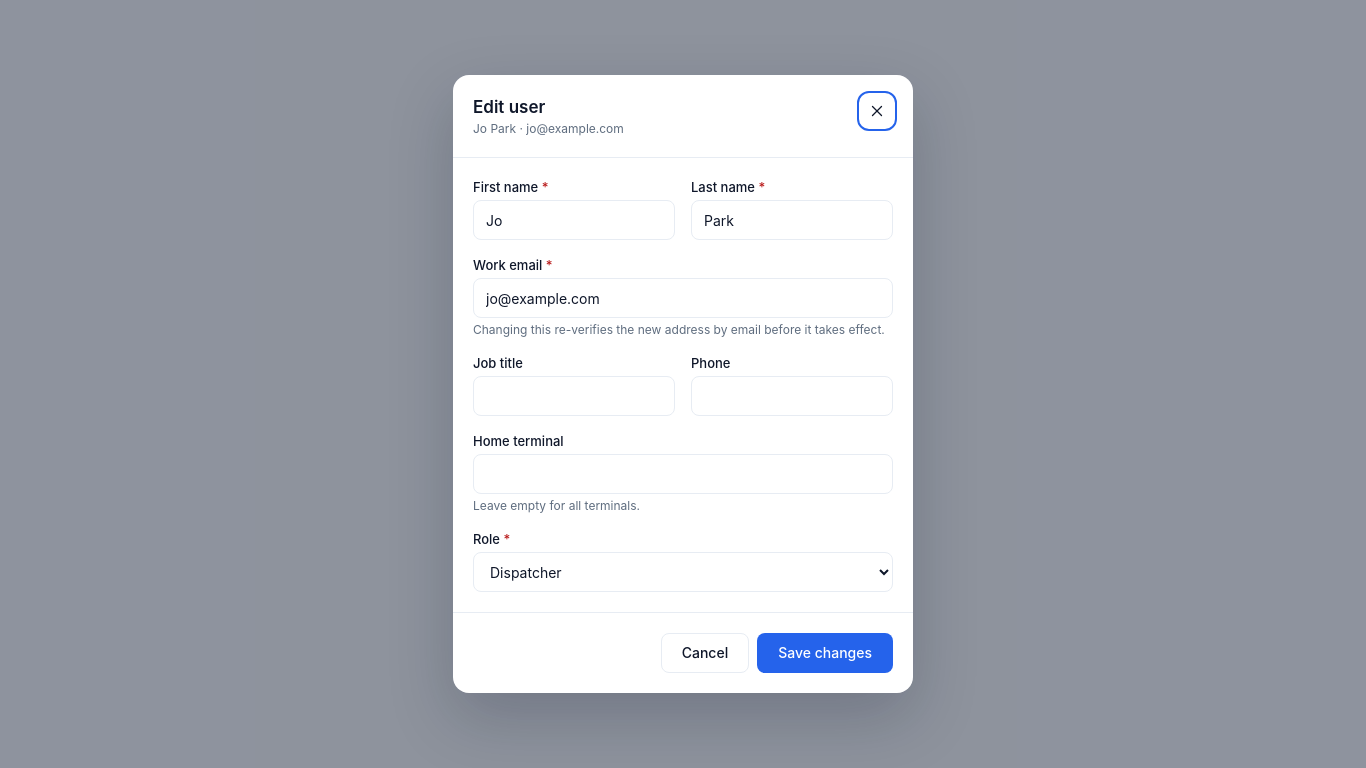
Test case: EditUserModal › maps every profile issue onto its field and labels an unplaced one
The width and height of the screenshot is (1366, 768).
Replace the text in the field labelled "First name *" with "Joanna": coordinates (574, 220) left=473, top=200, right=675, bottom=240
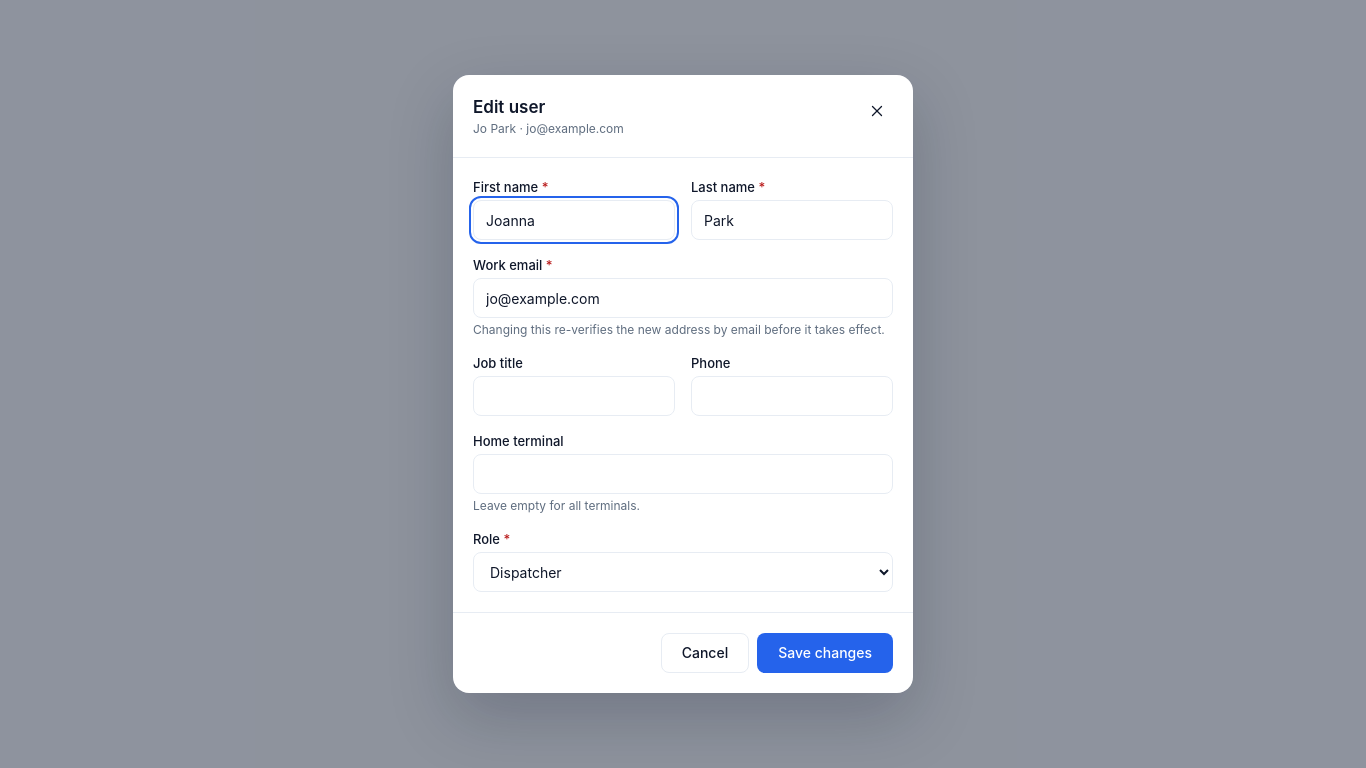
Click the button "Save changes": coordinates (825, 653) left=757, top=633, right=893, bottom=673
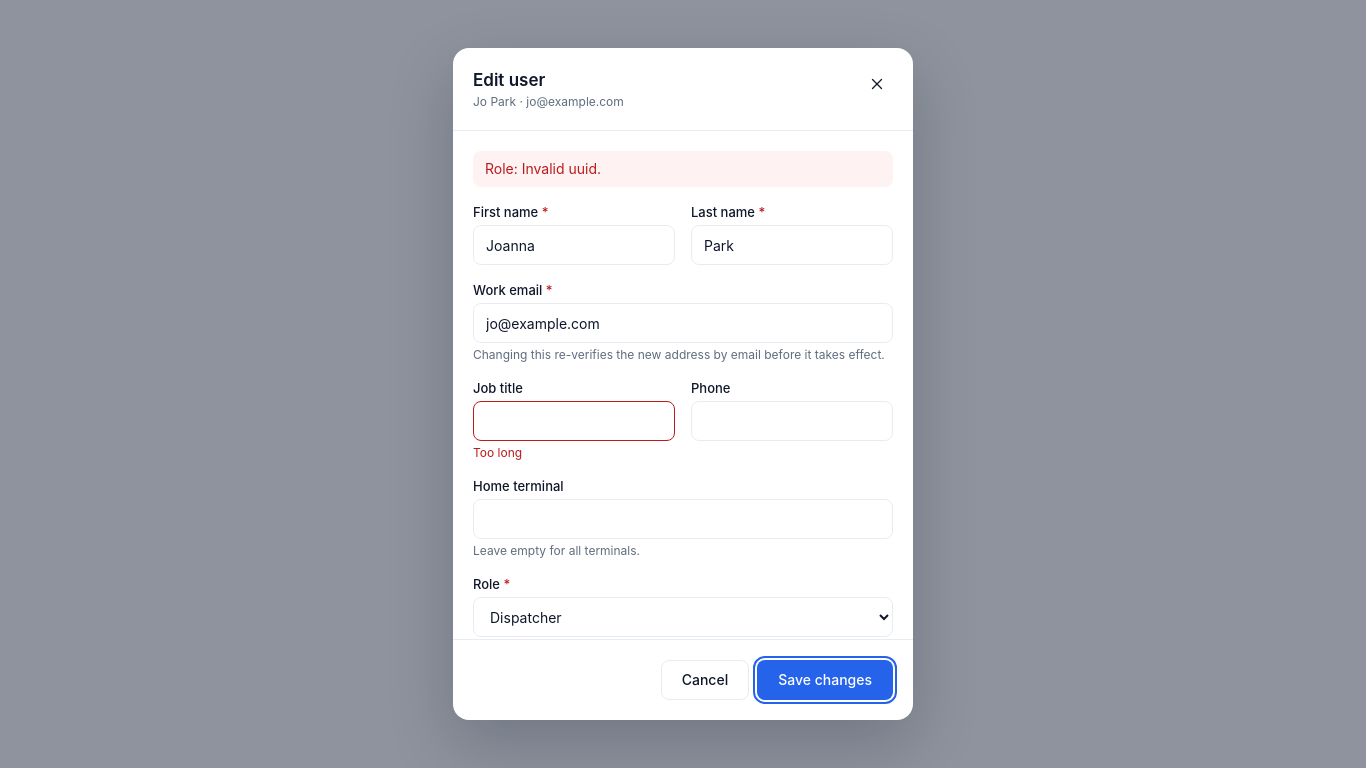
Now the text "Too long" is shown, box left=473, top=445, right=522, bottom=460
Now the text "Role: Invalid uuid." is shown, box left=473, top=151, right=893, bottom=187
